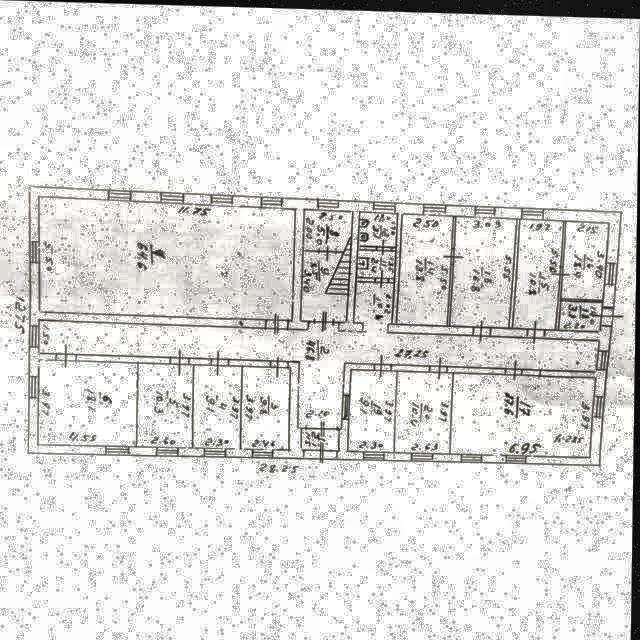room: (38, 271, 603, 437), (36, 196, 296, 320), (452, 370, 597, 454), (38, 360, 140, 447), (451, 214, 518, 326), (397, 211, 453, 324), (512, 214, 564, 328), (396, 369, 454, 451), (139, 363, 195, 446), (560, 216, 610, 299), (349, 367, 398, 451), (195, 363, 242, 448), (244, 365, 291, 448), (302, 249, 352, 320), (305, 208, 353, 250), (359, 210, 398, 245), (560, 297, 604, 328), (358, 247, 396, 276), (303, 428, 340, 448)
